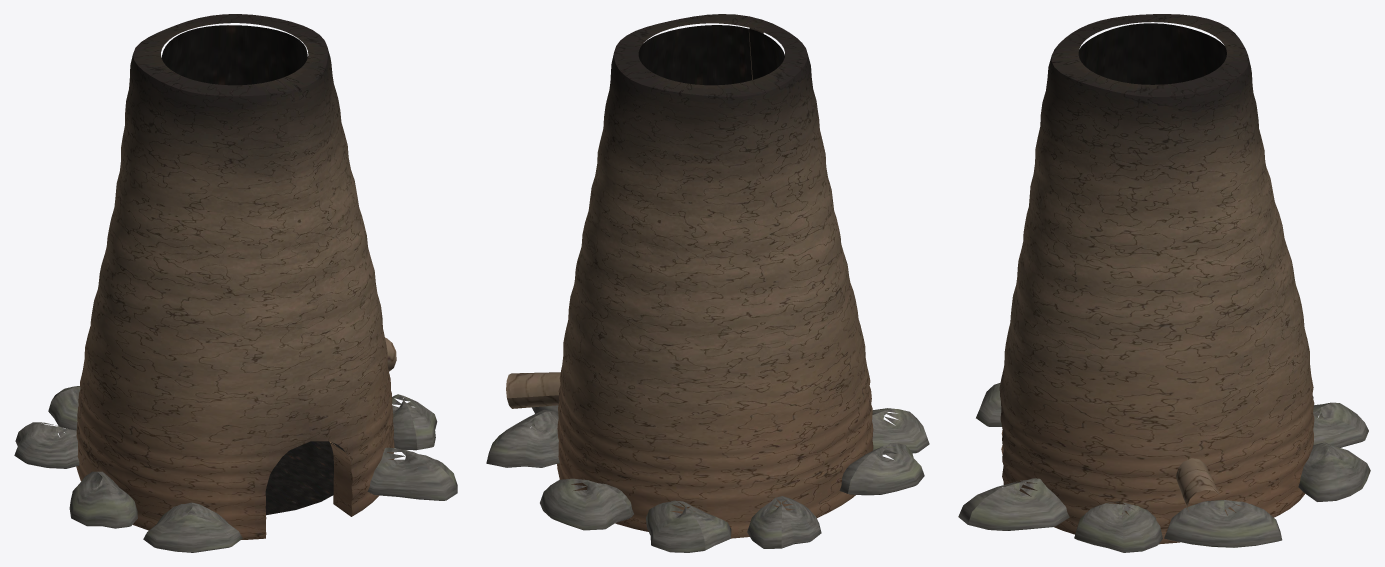
File: clay-furnace.glb
The picture shows the model from 3 angles, left to right: view 1: azimuth 30°, elevation 25°; view 2: azimuth 150°, elevation 25°; view 3: azimuth 270°, elevation 25°; orthographic projection.
Visible parts, largest first — view 1: keepsake_shelf; view 2: keepsake_shelf; view 3: keepsake_shelf.
Boxes of the visible parts, x1=… form: keepsake_shelf: x1=14, y1=14, x2=457, y2=552; keepsake_shelf: x1=486, y1=14, x2=929, y2=552; keepsake_shelf: x1=958, y1=14, x2=1370, y2=552.
Size of the model in its own units: 0.9324 by 1 by 0.8851.
Materials: 1 (1 with a texture image).
